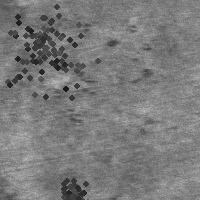rolled-in_scale: (0, 6, 105, 118), (4, 0, 72, 67), (45, 64, 106, 128), (104, 21, 160, 86), (50, 168, 94, 200)
